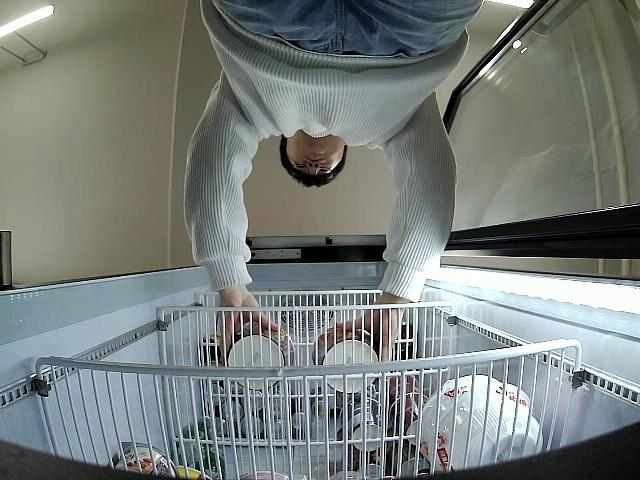00_hand: (339, 299, 397, 370), (219, 296, 282, 359)
05_nuguri_L: (227, 321, 298, 391), (311, 325, 381, 394)
